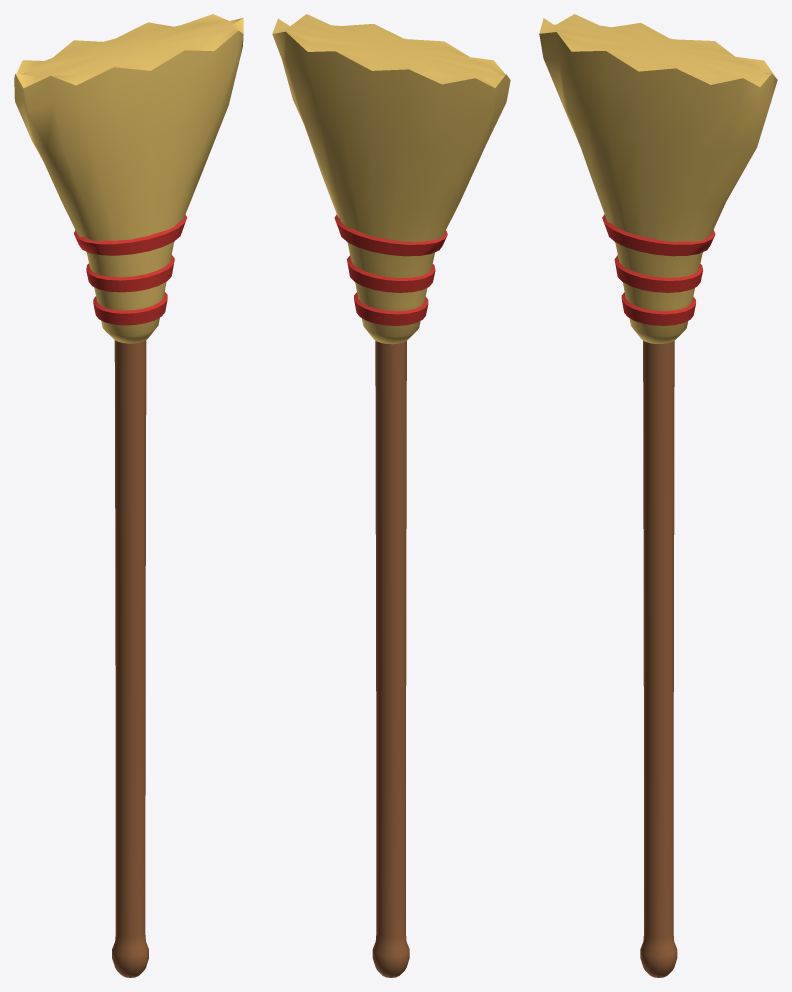
Rendered from broom.glb.
The picture shows the model from 3 angles, left to right: view 1: azimuth 30°, elevation 25°; view 2: azimuth 150°, elevation 25°; view 3: azimuth 330°, elevation 25°; orthographic projection.
Parts seen in each view (by area): view 1: Broom; view 2: Broom; view 3: Broom.
Part boxes in pixels (x1,y1,x2,y2): Broom: (14, 14, 243, 977); Broom: (272, 14, 510, 977); Broom: (539, 14, 777, 977).
Size of the model in its own units: 0.3078 by 1.2 by 0.094.
